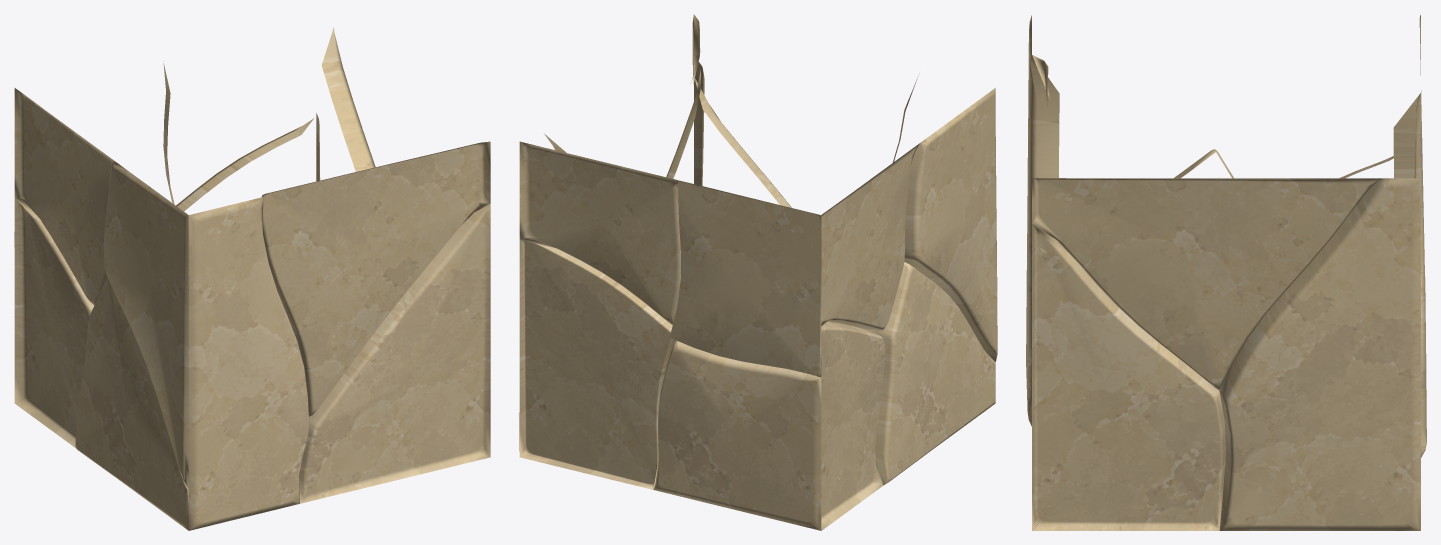
Rendered from GroundRock08.glb.
3 renders of one model, left to right at view 1: azimuth 30°, elevation 25°; view 2: azimuth 150°, elevation 25°; view 3: azimuth 270°, elevation 25°, orthographic. The views are drawn at different scales.
Parts seen in each view (by area): view 1: ground_rock_08; view 2: ground_rock_08; view 3: ground_rock_08.
Part boxes in pixels (x1,y1,x2,y2): ground_rock_08: (14, 27, 490, 530); ground_rock_08: (519, 14, 997, 530); ground_rock_08: (1026, 15, 1426, 530).
Size of the model in its own units: 1.03 by 1 by 1.03.
Materials: 15 (15 with a texture image).
